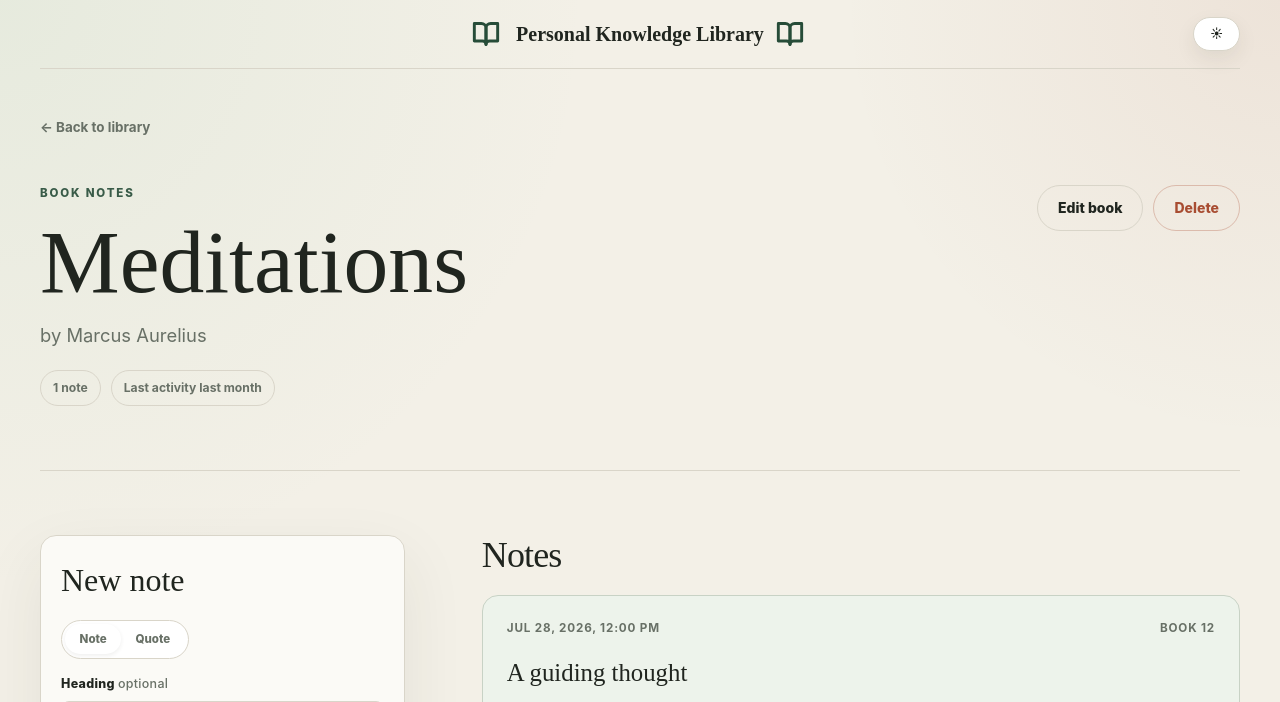
Test: switches the composer to quote mode and renders saved quotes distinctly
Click the button "Quote": (153, 639) [121,624,184,654]
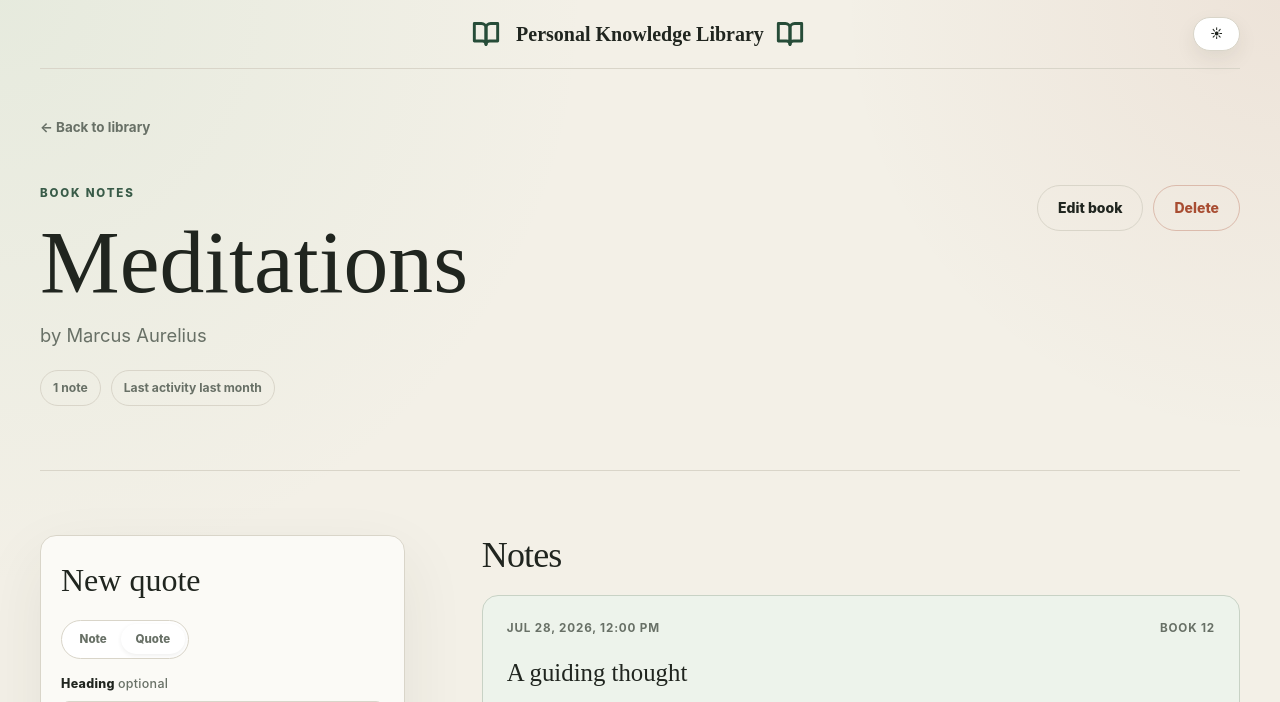
Expected: the heading "New quote" is shown, [61,562,200,598]
